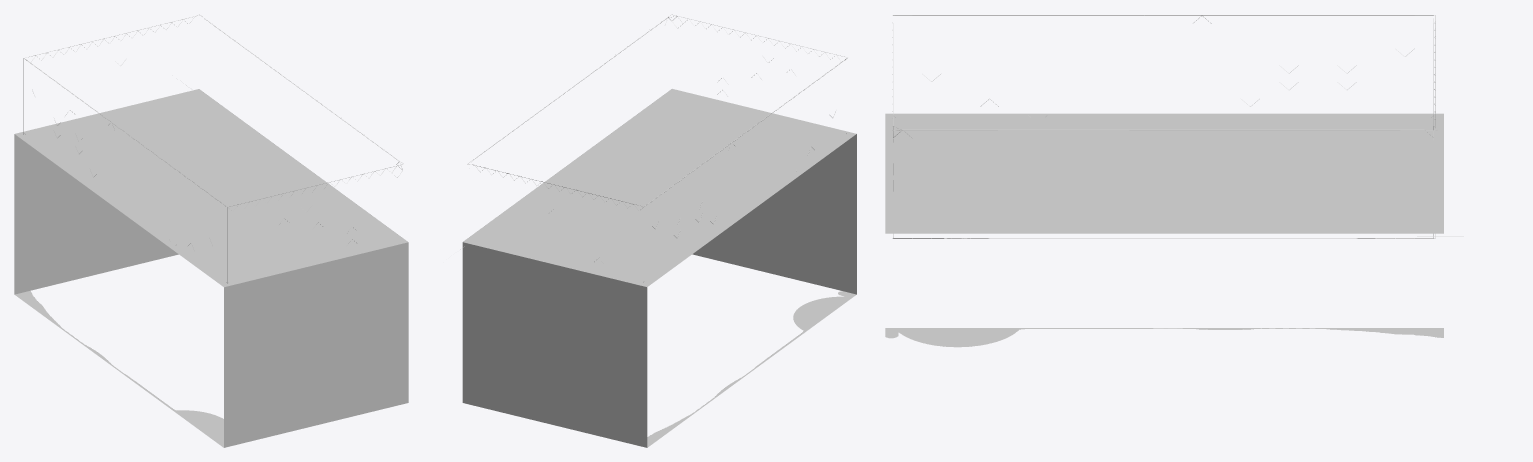
The model's file is stage.obj.
3 views of the same model, side by side, from view 1: azimuth 30°, elevation 25°; view 2: azimuth 150°, elevation 25°; view 3: azimuth 270°, elevation 25° (orthographic). The views are drawn at different scales.
Parts seen in each view (by area): view 1: 立方体.003_立方体.011; view 2: 立方体.003_立方体.011; view 3: 立方体.003_立方体.011.
Part boxes in pixels (box(x1,y1,x2,y2)): 立方体.003_立方体.011: box(14, 14, 408, 447); 立方体.003_立方体.011: box(460, 14, 856, 447); 立方体.003_立方体.011: box(885, 15, 1463, 347).
Bounding box in the file's own units: 4.21 × 5.18 × 9.37.
